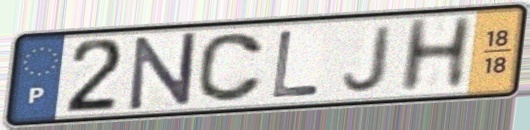2: (61, 36, 126, 116)
C: (194, 31, 266, 105)
H: (394, 13, 477, 97)
J: (339, 23, 397, 95)
L: (268, 28, 324, 101)
N: (127, 29, 199, 113)
